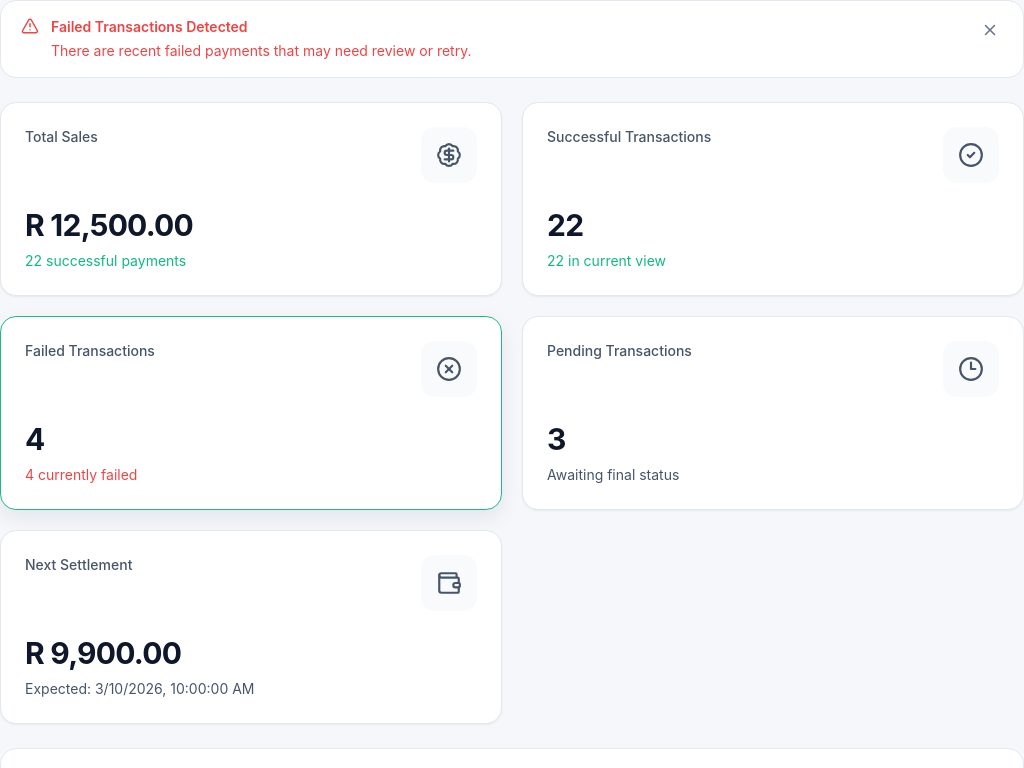
it: DashboardPage › changes table title when a metric card is selected
Step 1. Click the button "Successful Transactions 22 22 in current view" → (629, 136), box [522,102,1023,296]
(page scrolled)
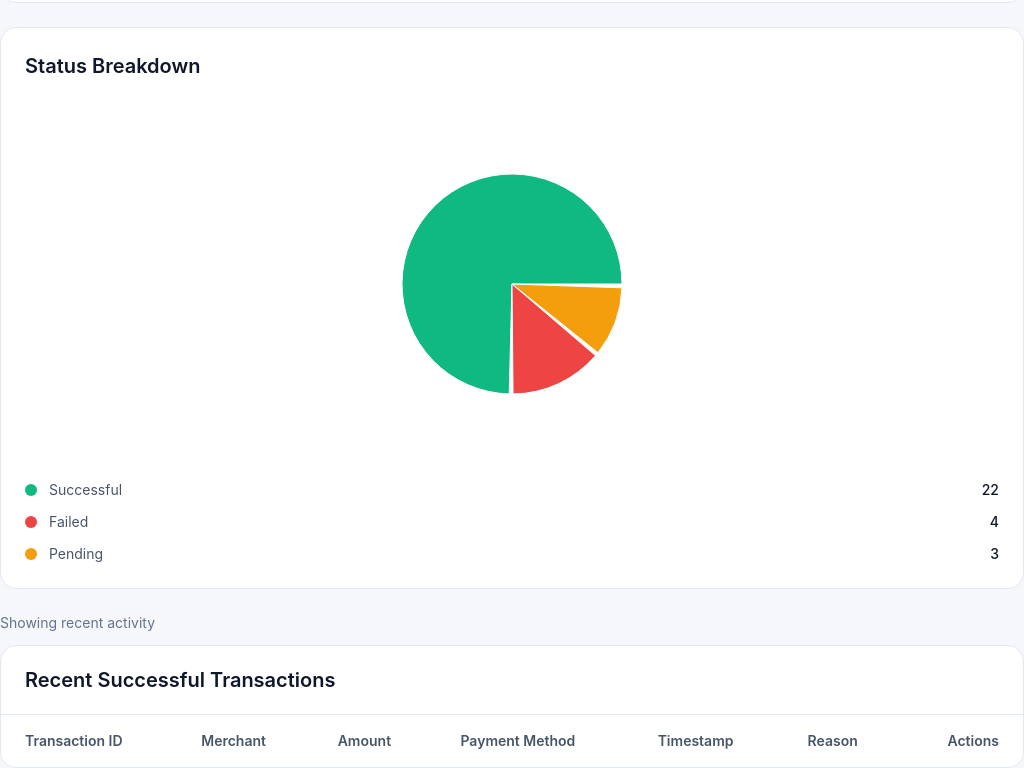
Check: the heading "Recent Successful Transactions" is shown, box [25,668,336,692]
